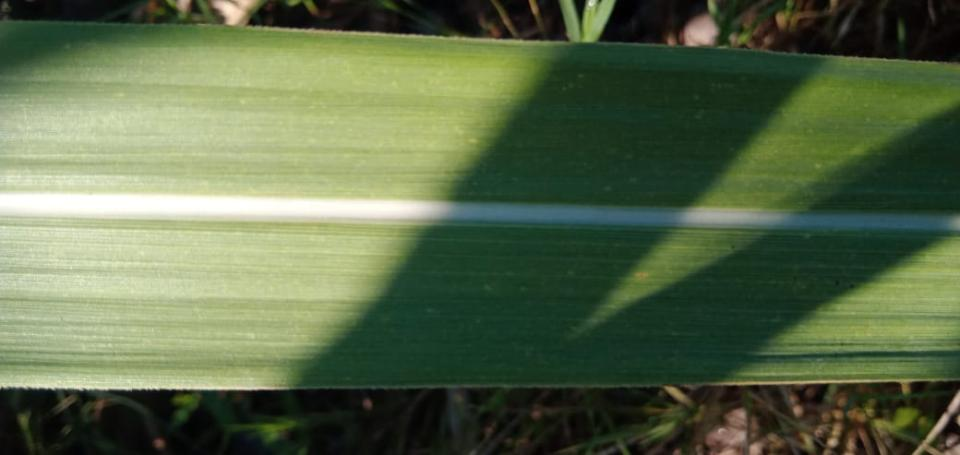Healthy: (0, 23, 959, 388)
